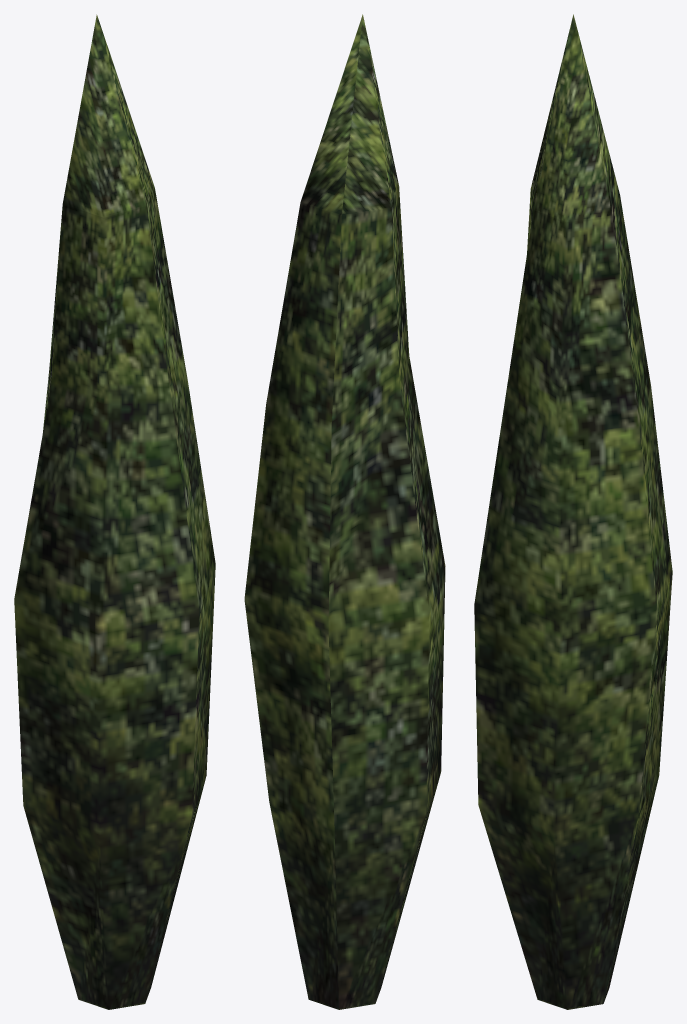
The model's file is tree_cypress_large.dae.
3 renders of one model, left to right at view 1: azimuth 30°, elevation 25°; view 2: azimuth 150°, elevation 25°; view 3: azimuth 270°, elevation 25°, orthographic.
Parts seen in each view (by area): view 1: Cylinder03; view 2: Cylinder03; view 3: Cylinder03.
Boxes of the visible parts, x1,y1,x2,y2 form: Cylinder03: [14, 14, 215, 1009]; Cylinder03: [244, 14, 445, 1009]; Cylinder03: [474, 14, 672, 1009].
Size of the model in its own units: 2.41 by 2.24 by 12.1.
